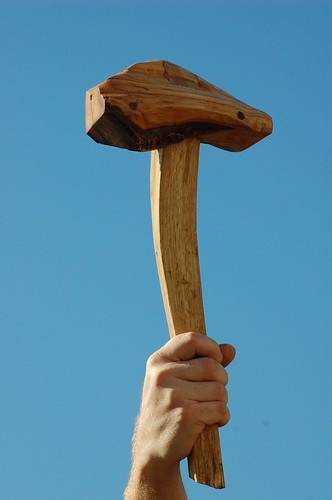hammer: (83, 59, 275, 337)
